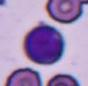L: (22, 25, 64, 64)
